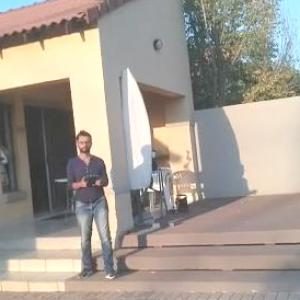follow: (65, 124, 120, 284)
